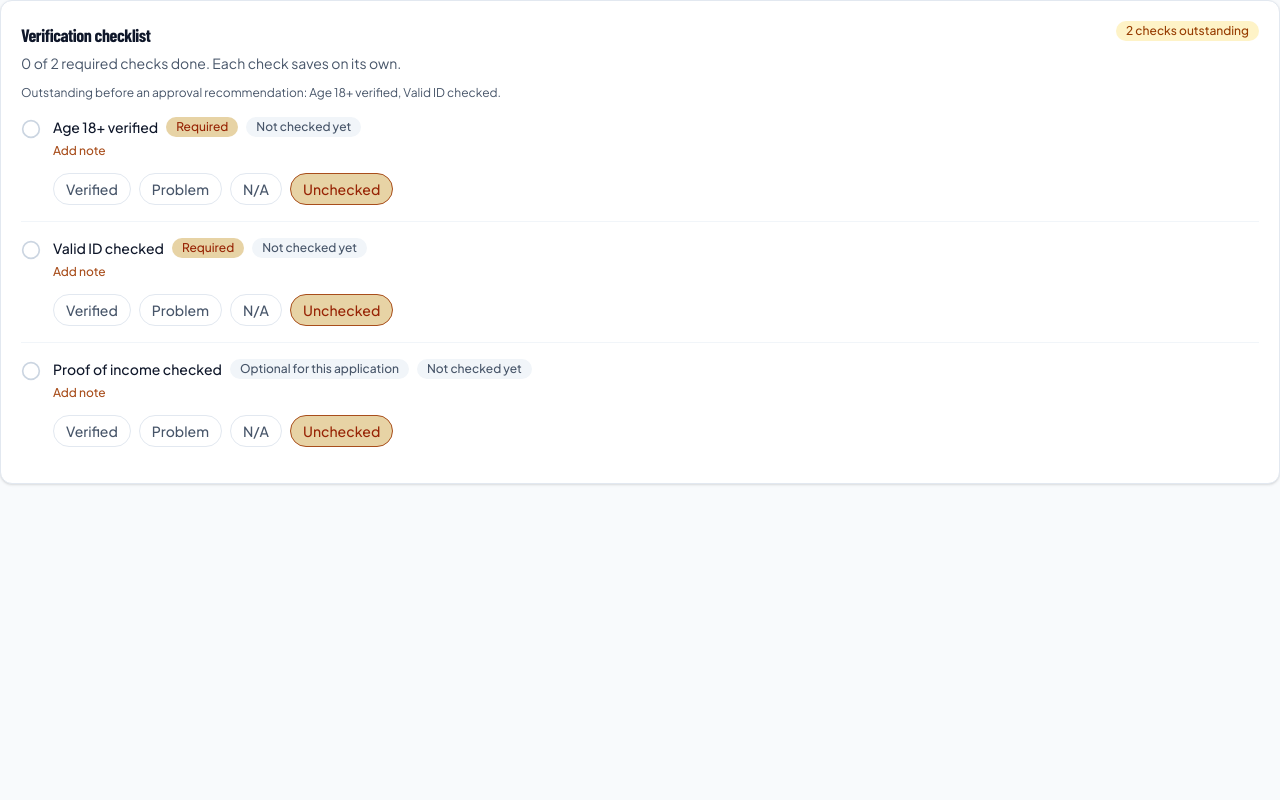
Scenario: VerificationChecklist › saves one item on its own and keeps another item's unsaved draft
The image size is (1280, 800).
Note: Start a draft on Valid ID, then save Age 18+ separately.
Click the 2nd radio button labelled "Problem" at x=180, y=310, box [139,294,222,326]
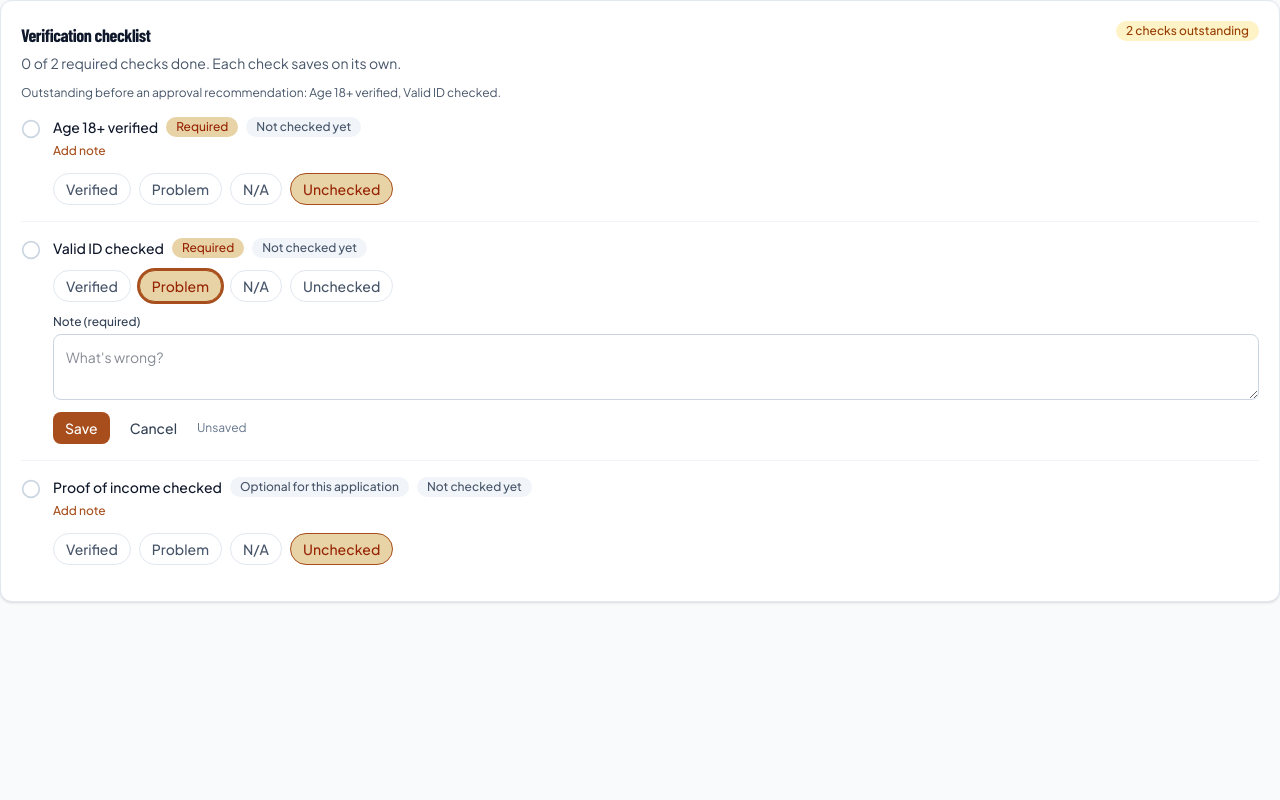
Click the 1st radio button labelled "Verified" at x=92, y=189, box [53,173,131,205]
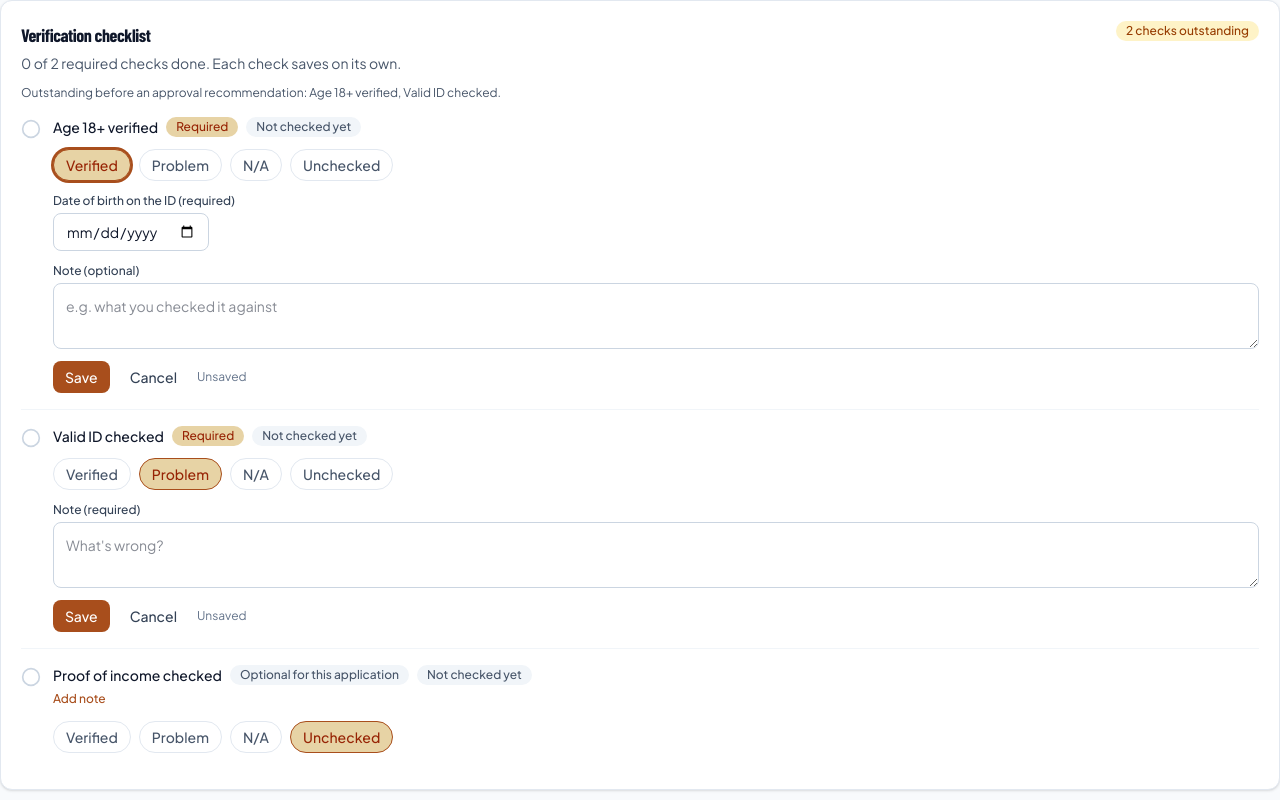
Note: Verifying age needs the DOB read off the ID.
Type "1990-05-01" into the date field labelled "Date of birth on the ID (required)" at x=131, y=232, box [53,213,209,251]
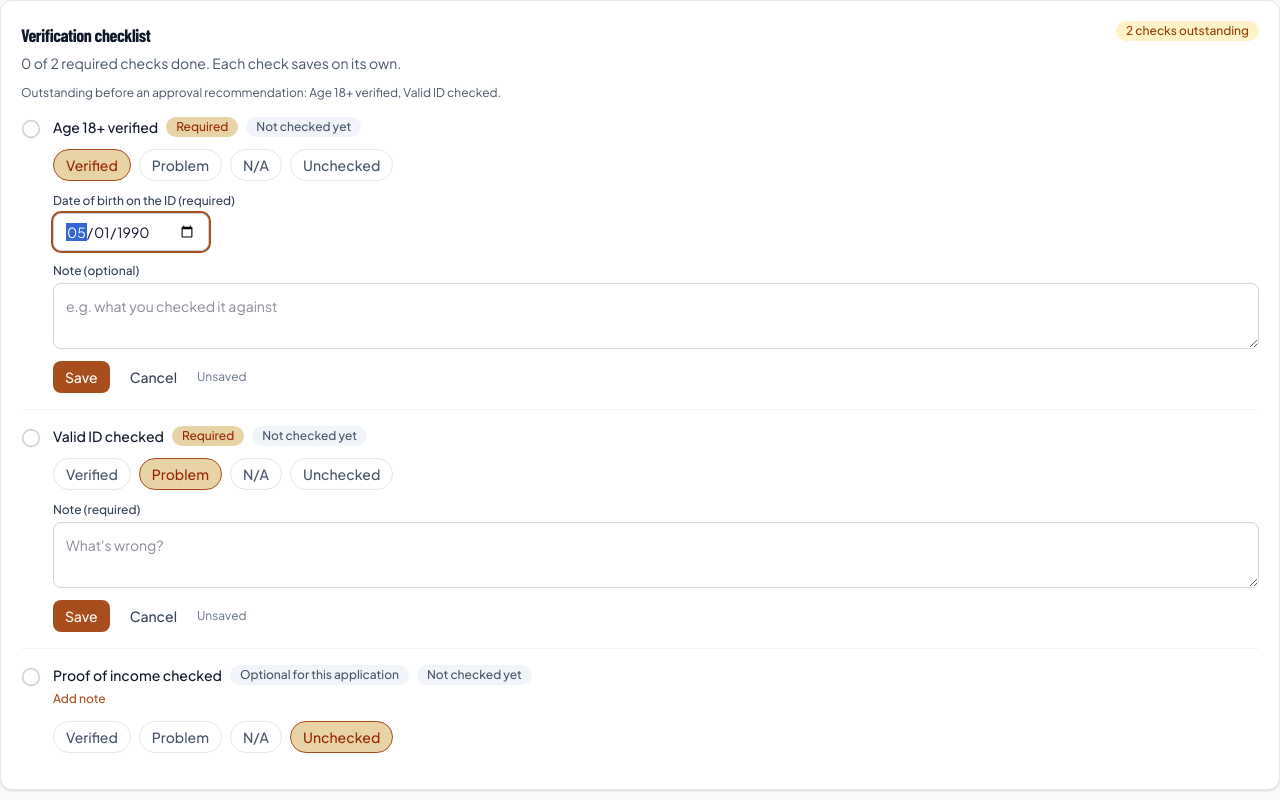
Type "DOB on NID card." into the text box labelled "Note (optional)" at x=656, y=316, box [53,283,1259,349]
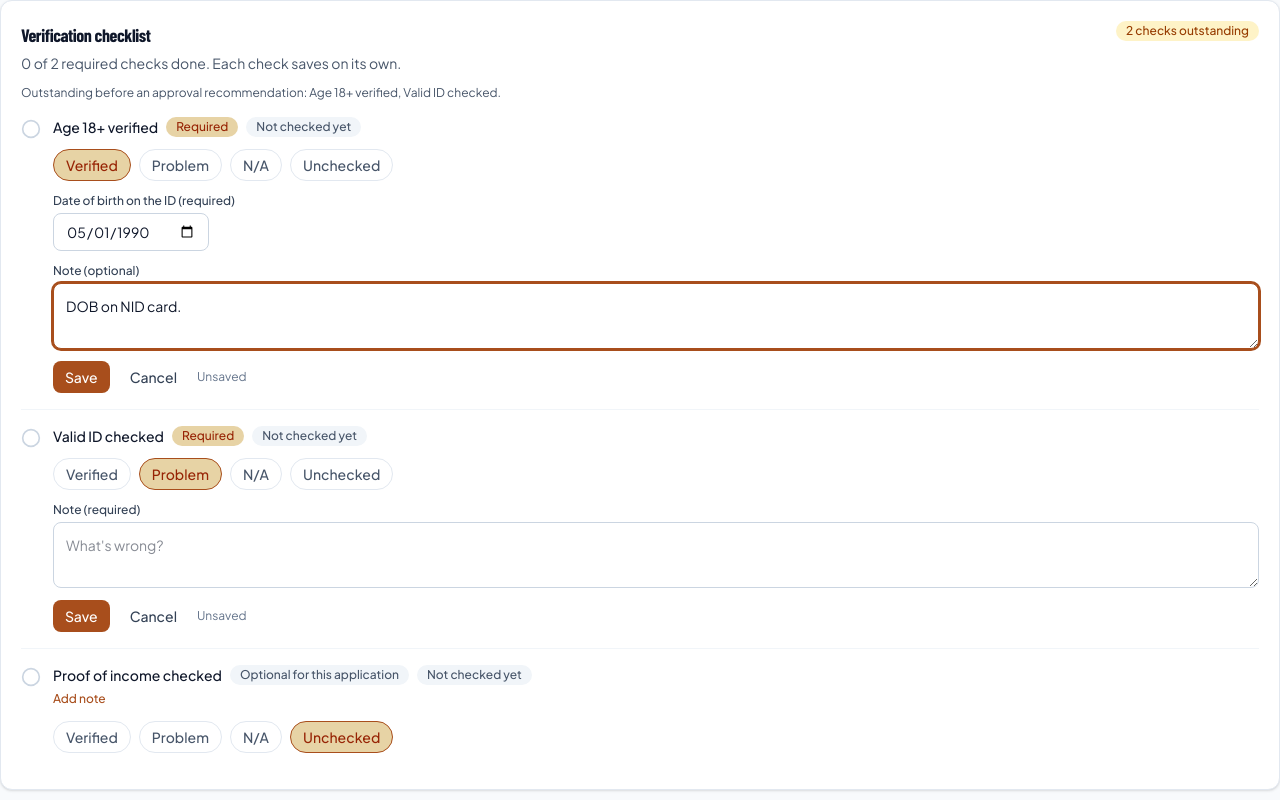
Click the button "Save" below "(optional)" at x=81, y=377, box [53,361,110,393]
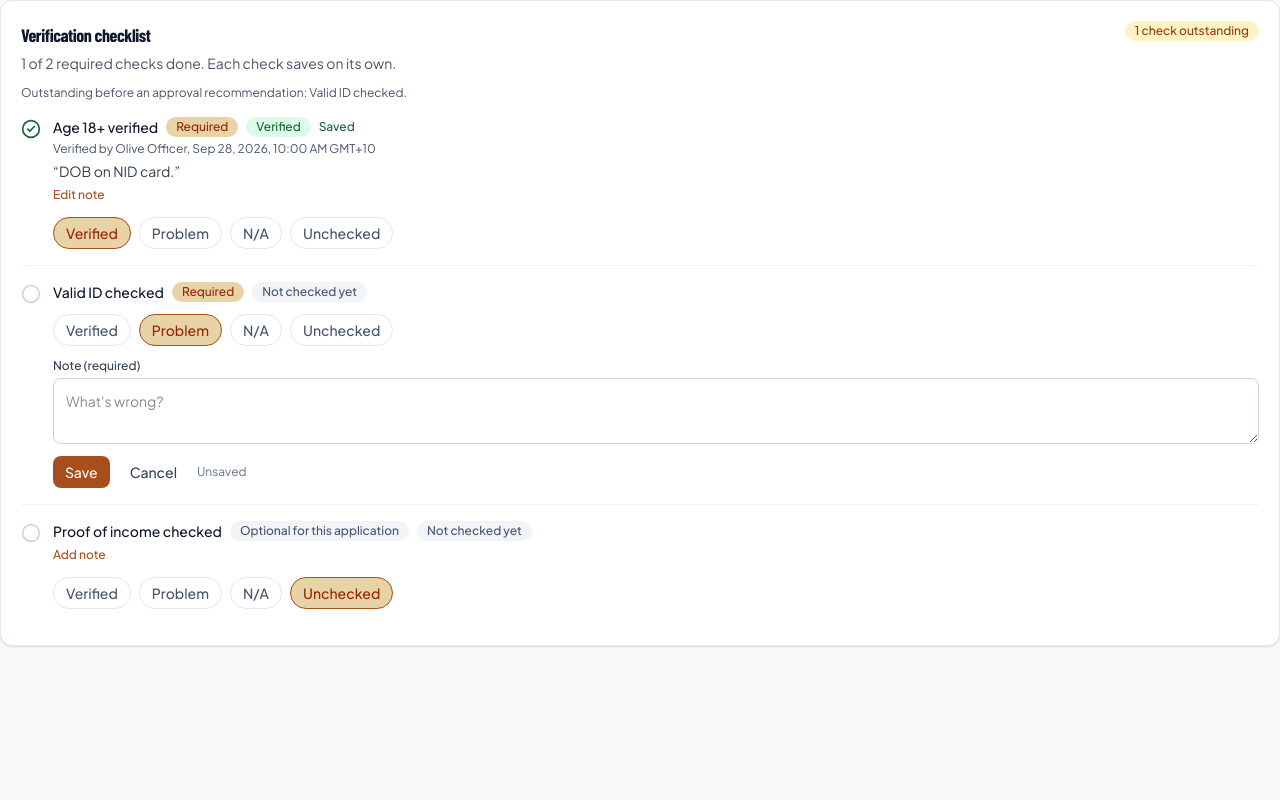
Now the text "Saved" is shown, box [319,119,355,135]
Now the text "Verified by Olive Officer" is shown, box [53,141,376,156]
Now the text "1 of 2 required checks done. Each check saves on its own." is shown, box [21,53,396,73]
